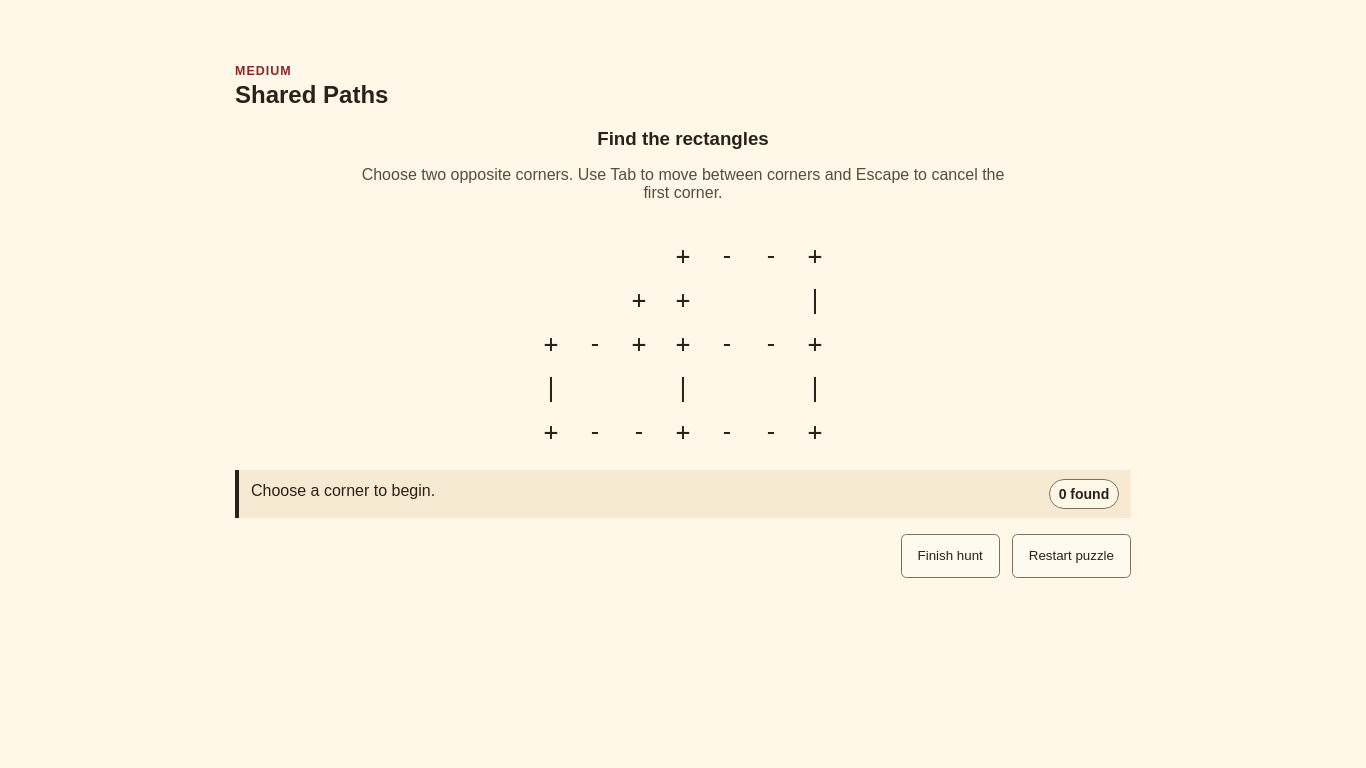
Rectangle Hunt game loop › submitting an incomplete hunt reveals the result and ends selection
The width and height of the screenshot is (1366, 768).
Click the button named "Corner at row 1, column 4" at [683, 256], box left=661, top=234, right=705, bottom=278
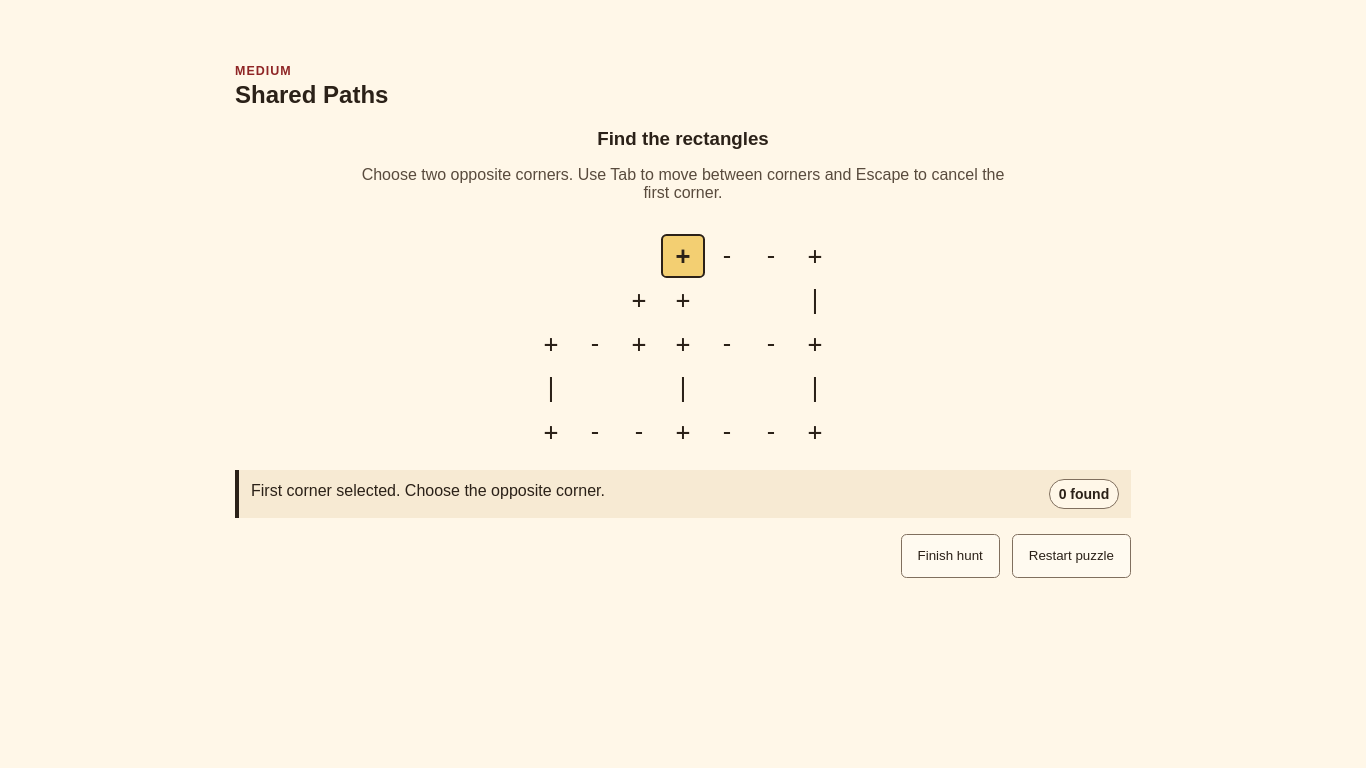
Click the 8th button "+" at [815, 344], box left=793, top=322, right=837, bottom=366
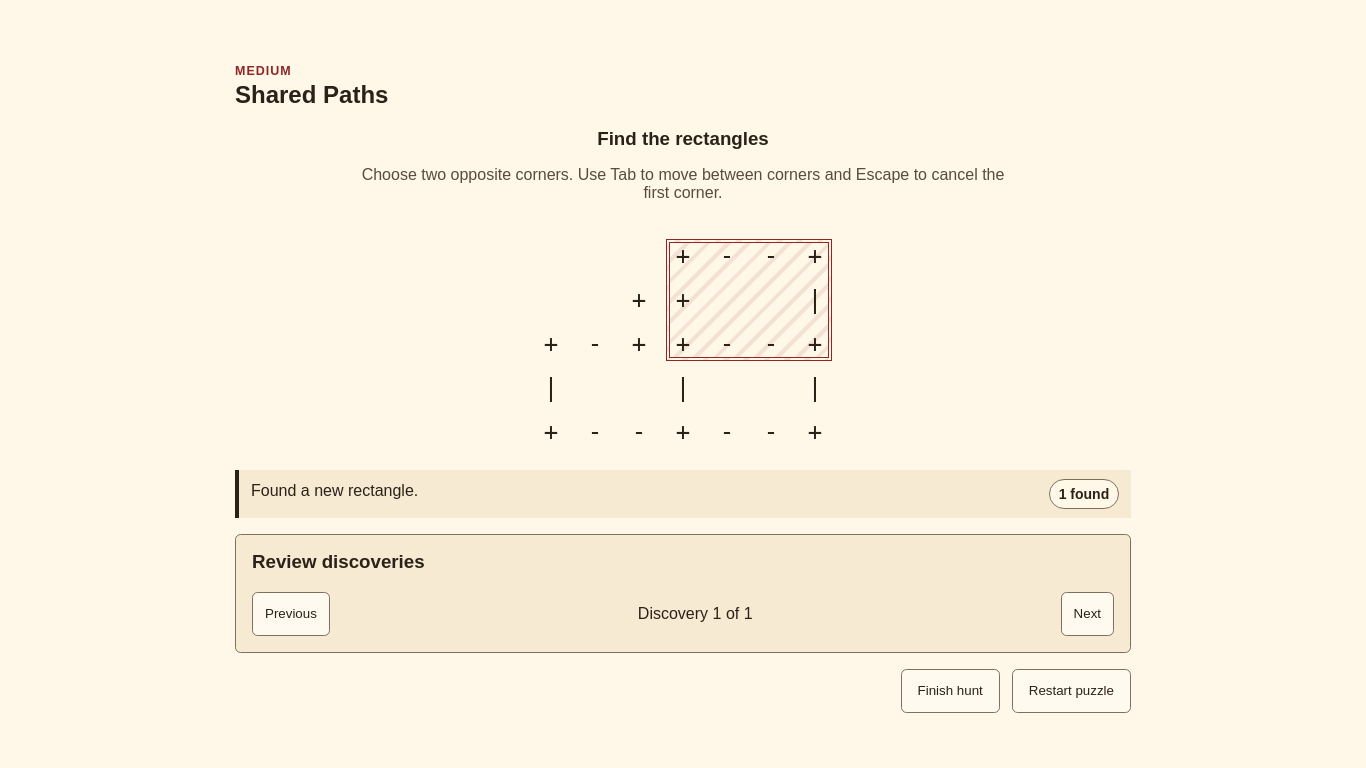
Click the button "Finish hunt" at [950, 691], box left=901, top=669, right=1000, bottom=713
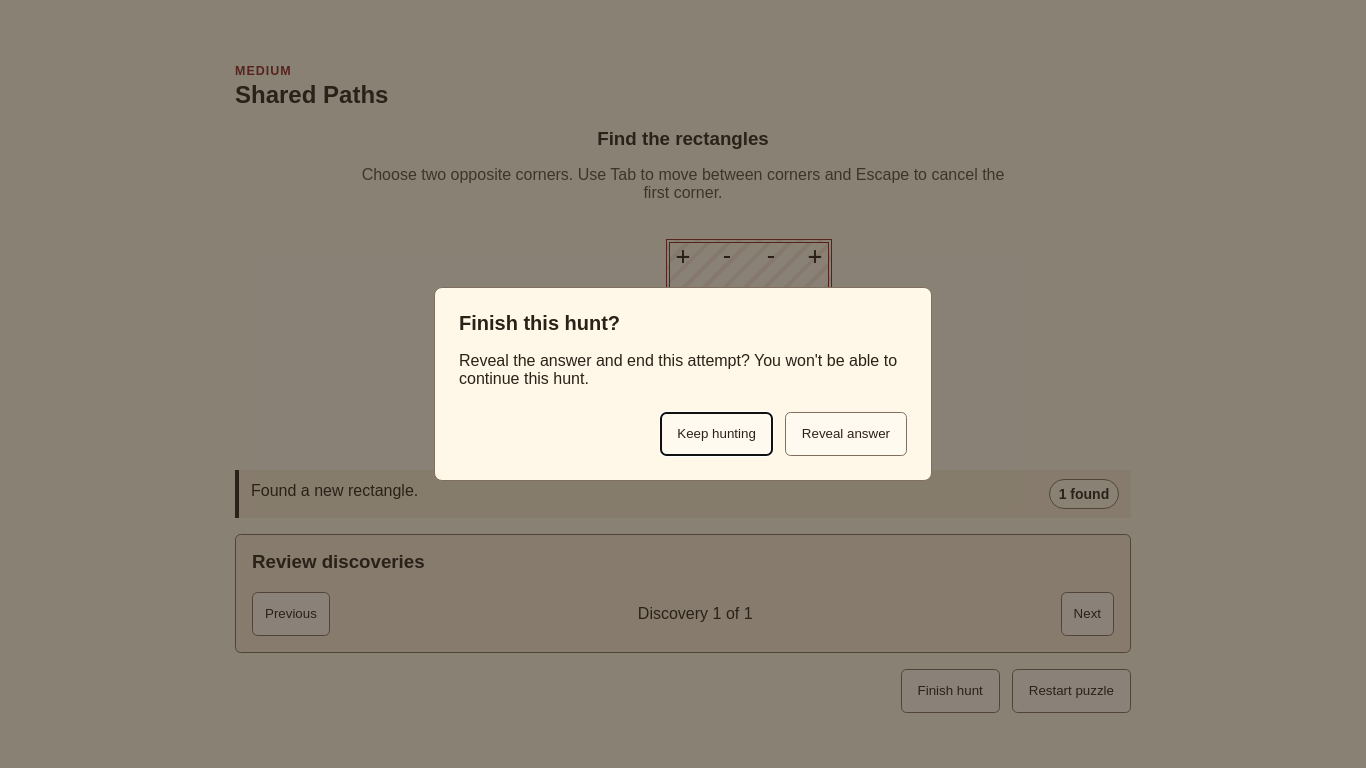
Click the button "Reveal answer" at [846, 434], box left=785, top=412, right=907, bottom=456
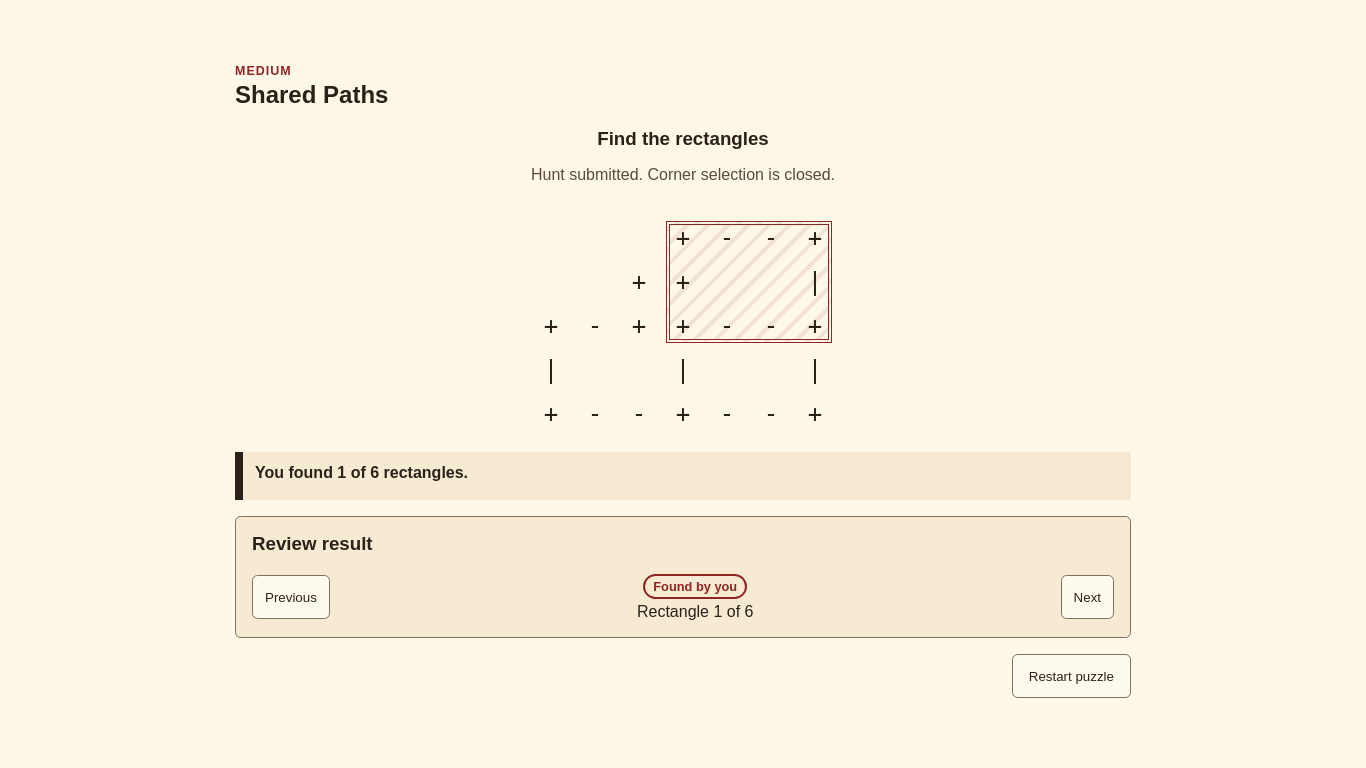
Check: the message named "Game status" reads "You found 1 of 6 rectangles.", box left=255, top=464, right=468, bottom=481
Check: the button "Finish hunt" is gone
Check: the button named "Corner at row 1, column 4" is disabled, box left=661, top=216, right=705, bottom=260
Click the button "Next" at [1087, 597], box left=1061, top=575, right=1114, bottom=619
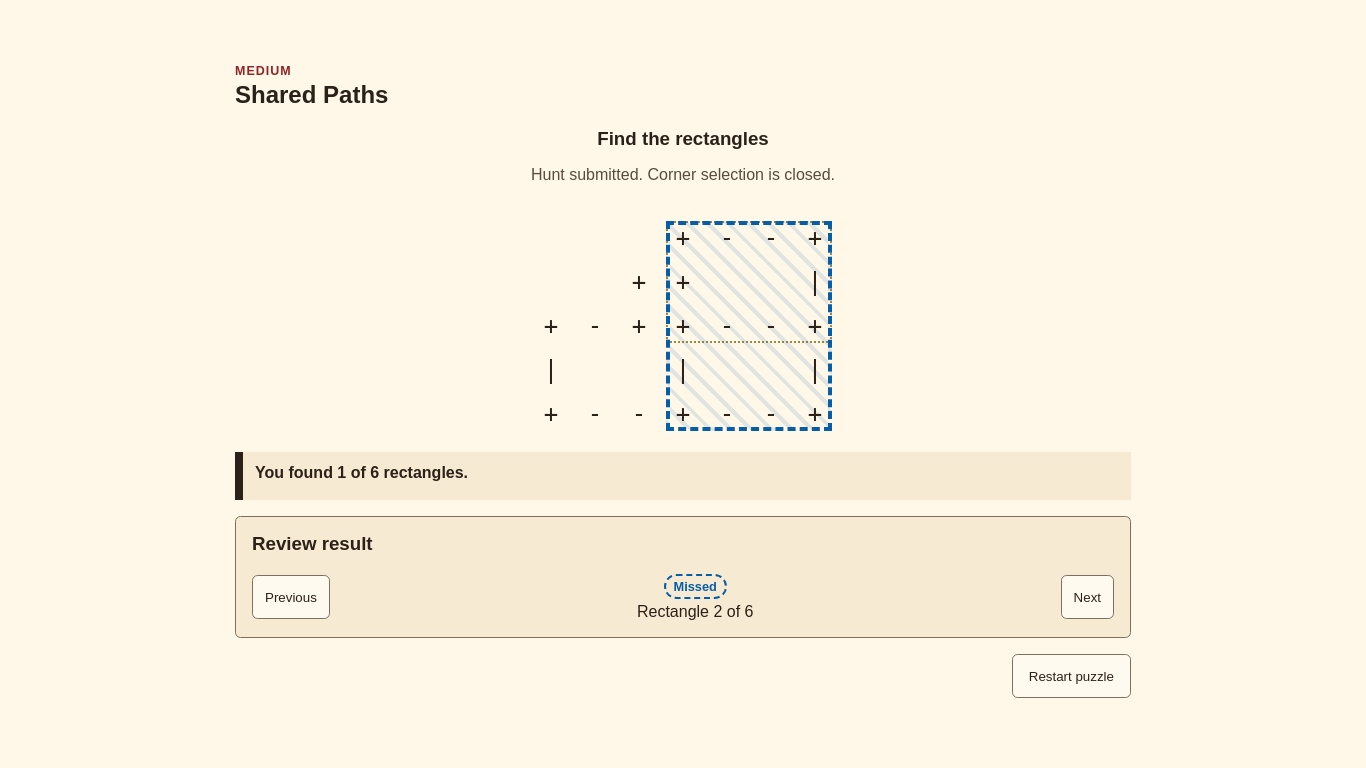
Check: the message named "Game status" reads "You found 1 of 6 rectangles.", box left=255, top=464, right=468, bottom=481
Check: the element named "Missed, rectangle 2 of 6" is shown, box left=637, top=574, right=754, bottom=620
Click the button "Previous" at [291, 597], box left=252, top=575, right=330, bottom=619
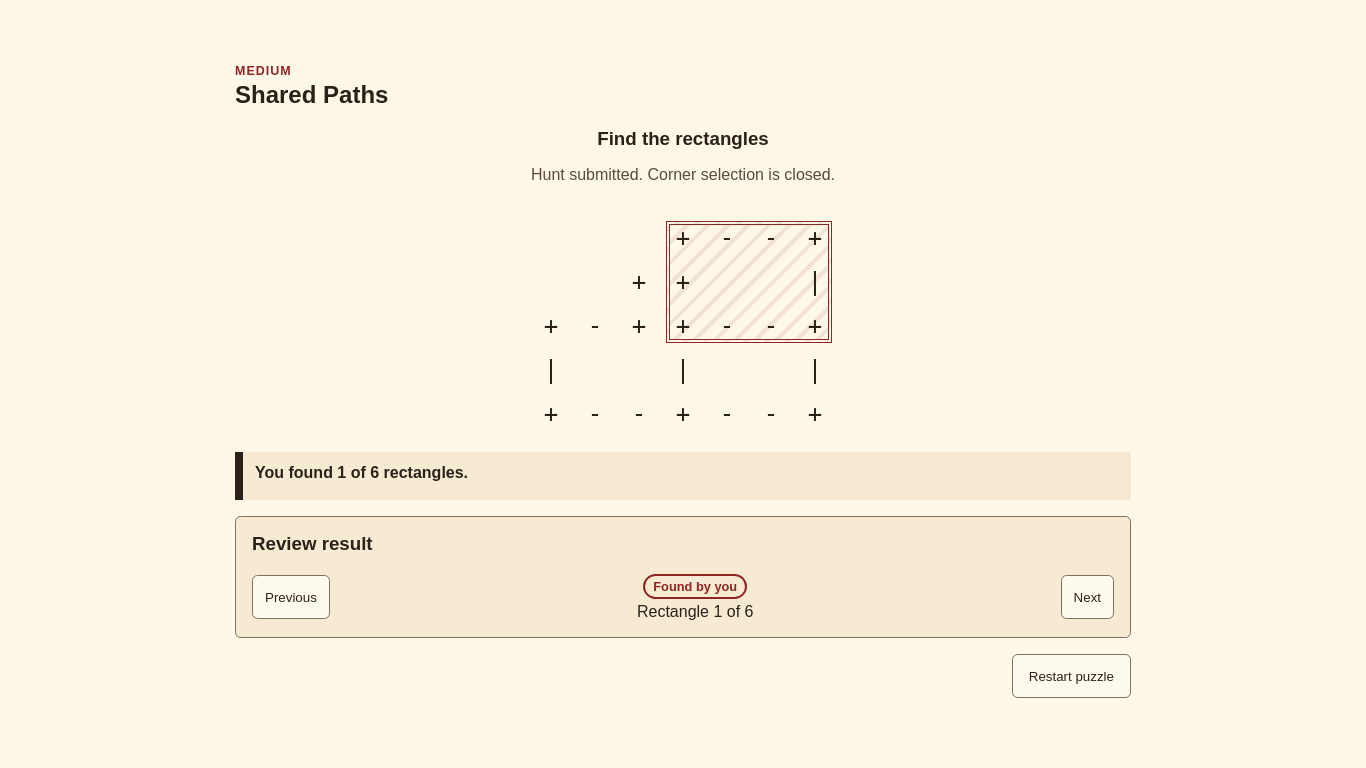
Check: the element named "Found by you, rectangle 1 of 6" is shown, box left=637, top=574, right=754, bottom=620
